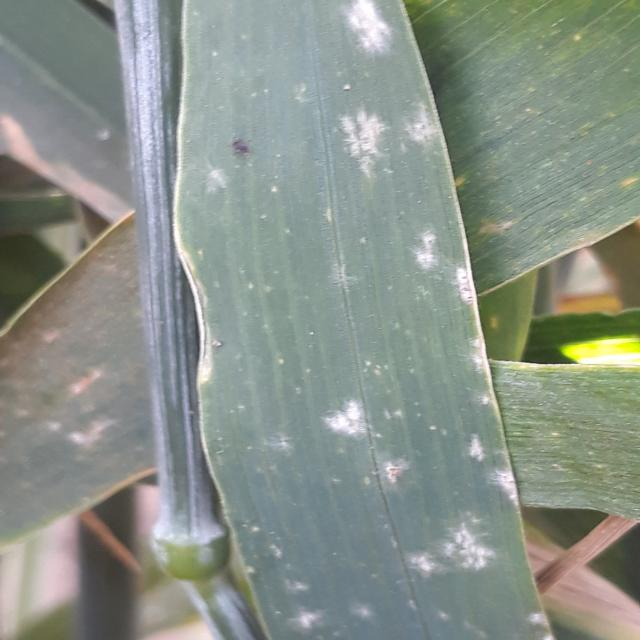powder_mildew: (165, 0, 548, 640), (0, 209, 159, 521), (483, 370, 640, 520), (0, 74, 145, 231), (556, 0, 640, 259)
